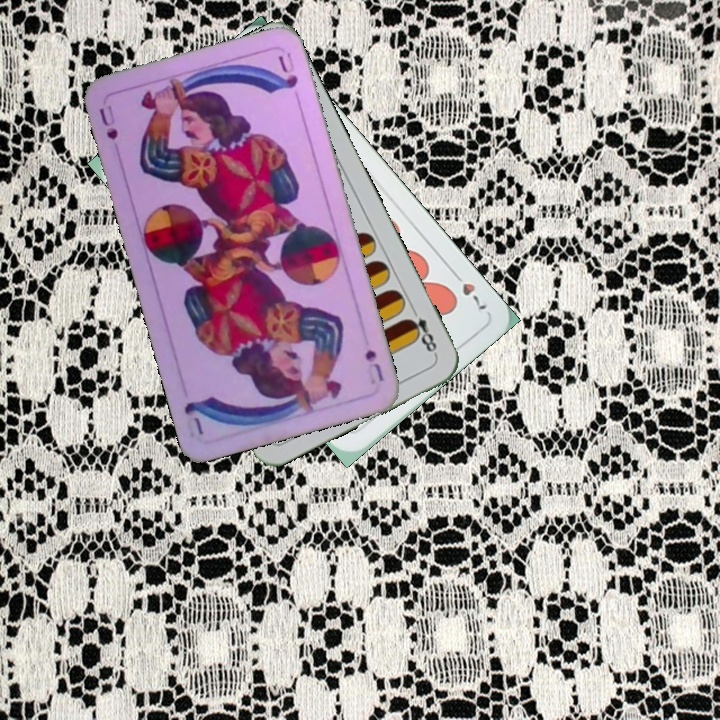E8: (402, 303, 440, 358)
H7: (447, 266, 490, 313)
SU: (360, 345, 386, 387), (95, 101, 121, 143)
